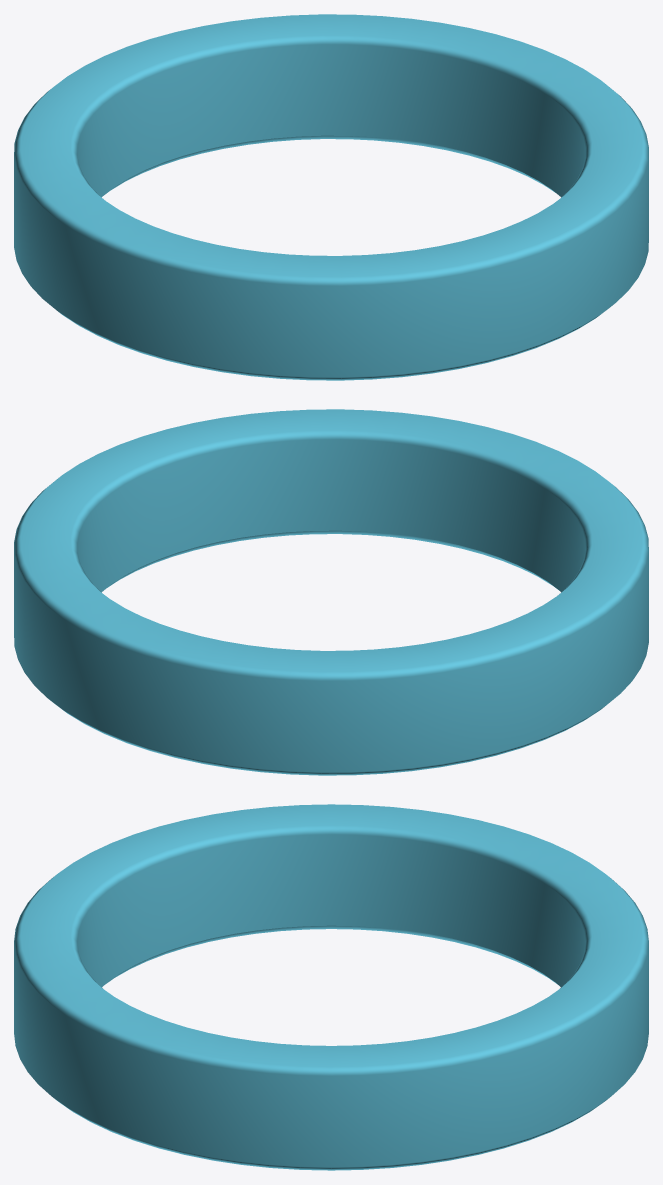
3 renders of one model, top to bottom at view 1: azimuth 30°, elevation 25°; view 2: azimuth 150°, elevation 25°; view 3: azimuth 270°, elevation 25°, orthographic.
Parts seen in each view (by area): view 1: seal_body; view 2: seal_body; view 3: seal_body.
Boxes of the visible parts, <box> form: seal_body: <box>14,14,648,380</box>; seal_body: <box>14,409,648,775</box>; seal_body: <box>14,804,648,1170</box>.
Bounding box in the file's own units: 0.05 × 0.009 × 0.05.
